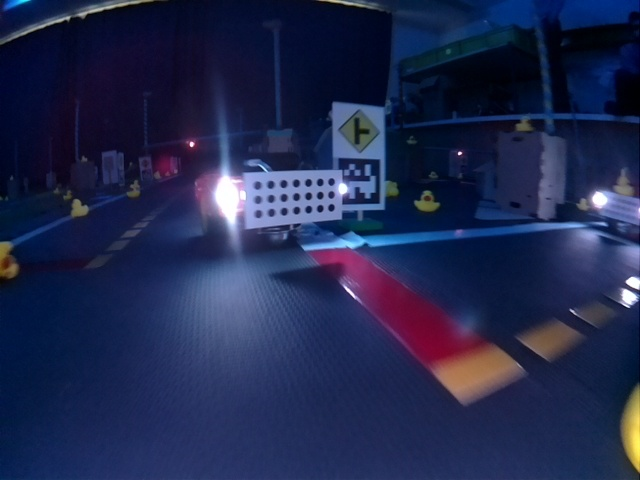Duckie: (1, 242, 19, 277), (415, 190, 440, 212), (616, 175, 632, 195), (74, 201, 88, 217), (515, 118, 532, 130), (386, 181, 398, 196), (576, 198, 588, 211), (128, 186, 139, 196)
Duckiebot: (195, 160, 343, 242), (591, 185, 638, 237)
Intersection sign: (333, 104, 383, 155)
QR code: (335, 157, 382, 209)
